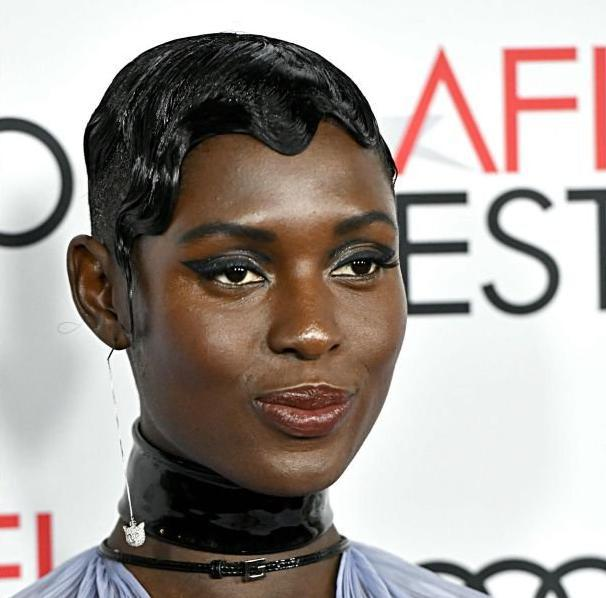Sober: (163, 149, 397, 475)
